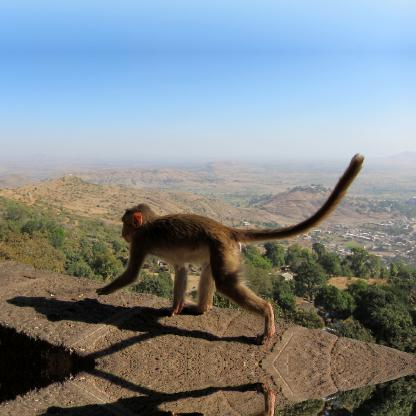Monkey: (111, 156, 359, 338)
